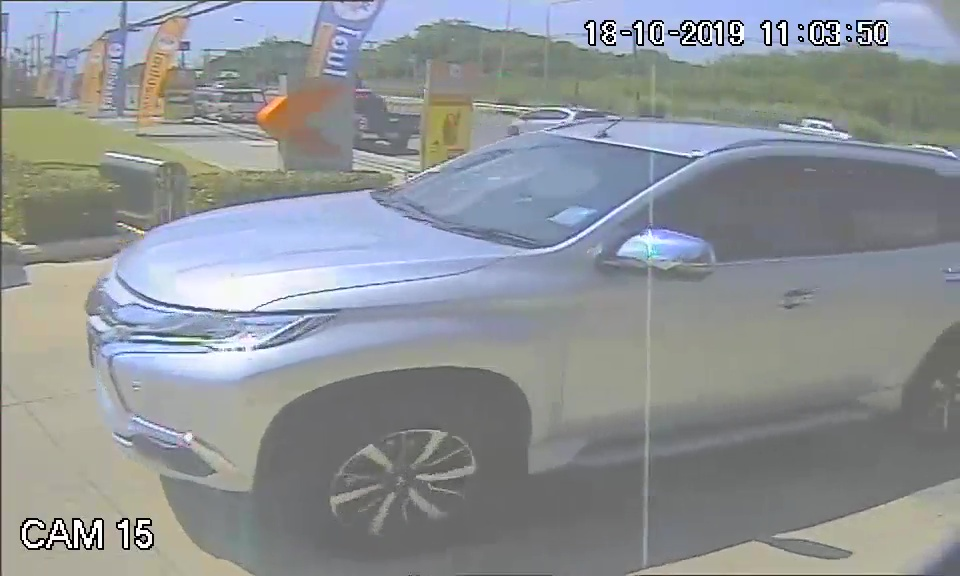pickup: (79, 107, 959, 505)
